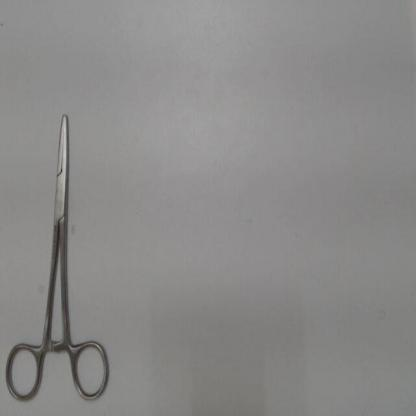Mayo Needle Holder: (2, 98, 118, 408)
